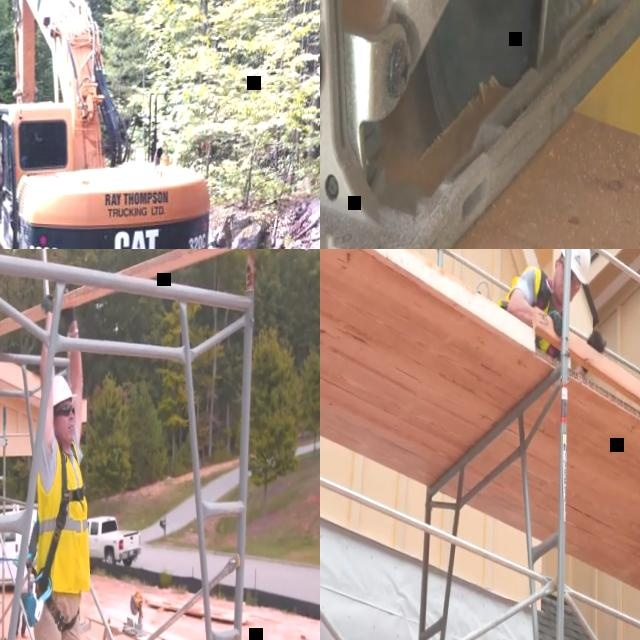Hardhat: (558, 249, 590, 285), (52, 374, 76, 407)
NO-Mask: (553, 262, 573, 307), (57, 419, 75, 444)
Person: (17, 287, 95, 640), (498, 249, 592, 359)
Safety Vest: (34, 443, 94, 595), (497, 262, 561, 358)
machinery: (0, 0, 225, 249)
vehicle: (0, 506, 38, 590), (86, 514, 141, 566)
